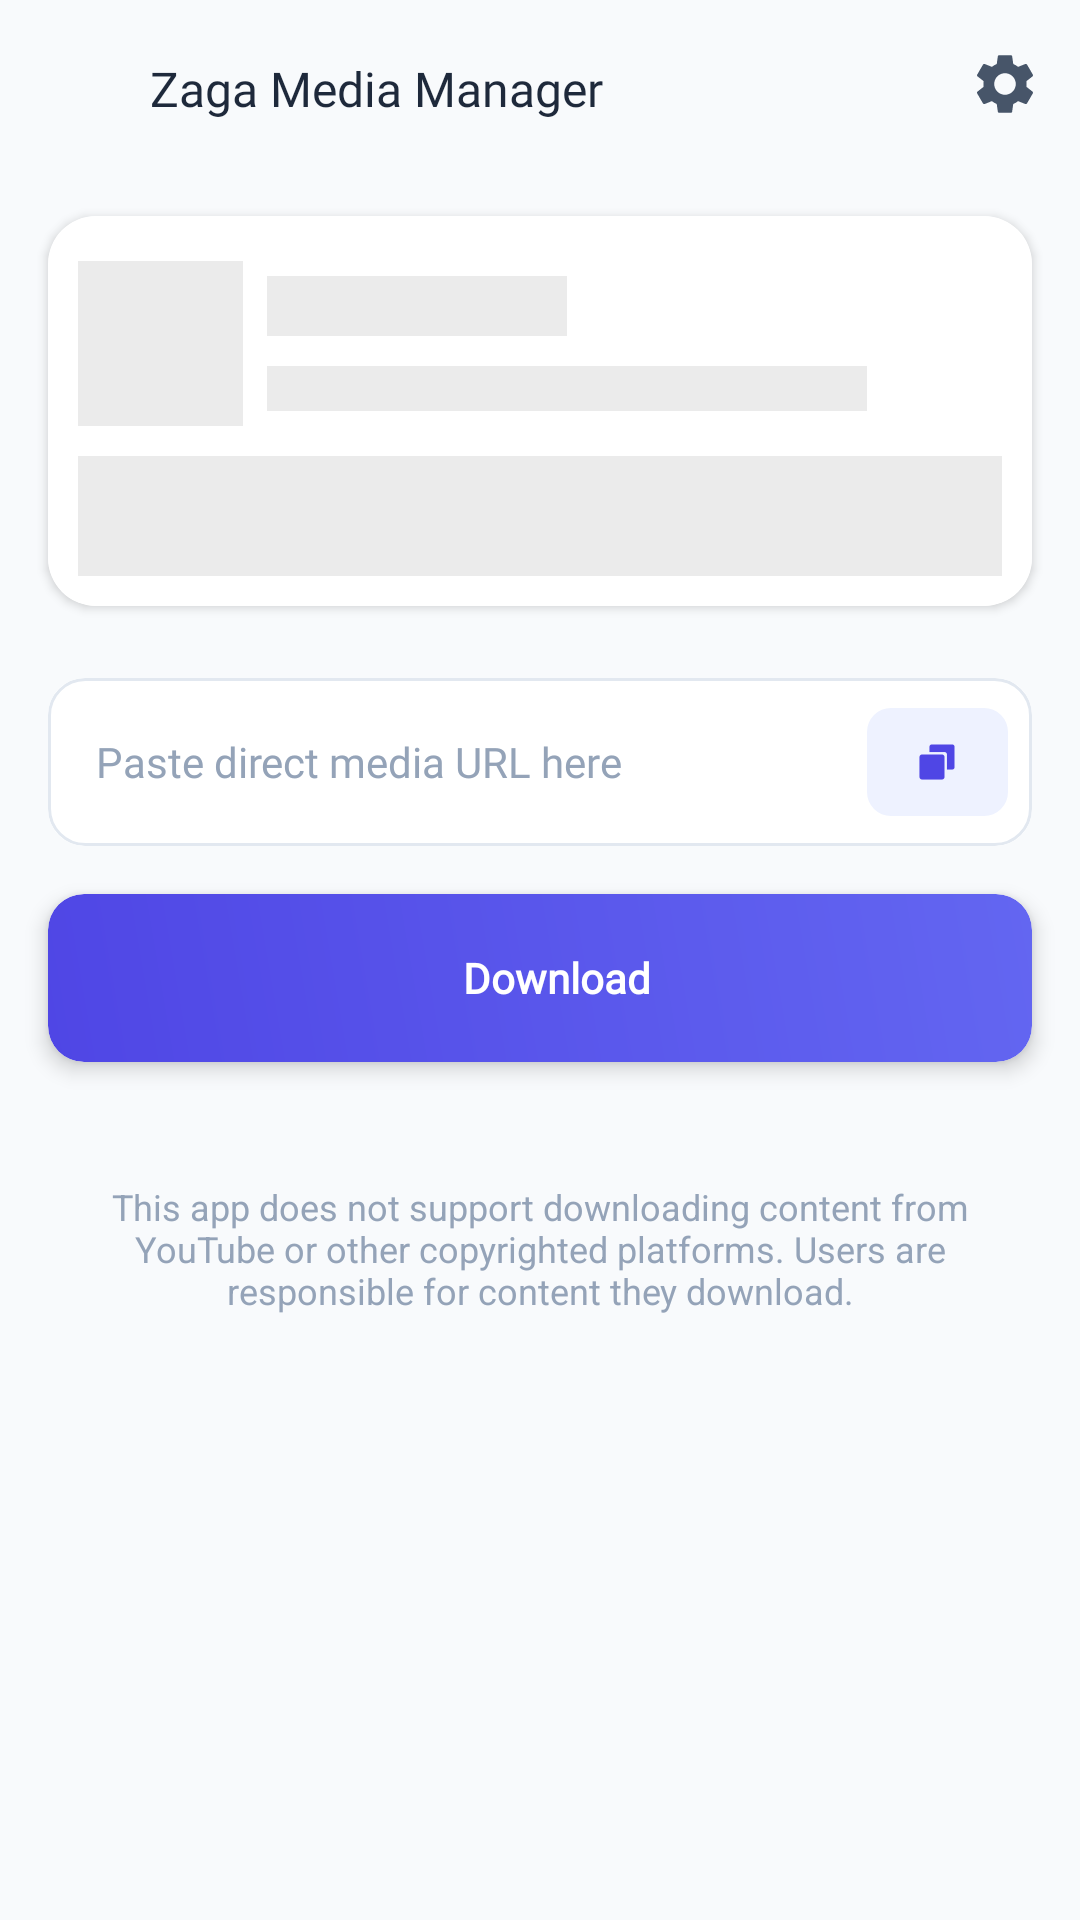

Icons on this 1080 x 1920 Android screen, each with its box as (x1, y1, x2, y2):
settings: (977, 55, 1033, 113)
